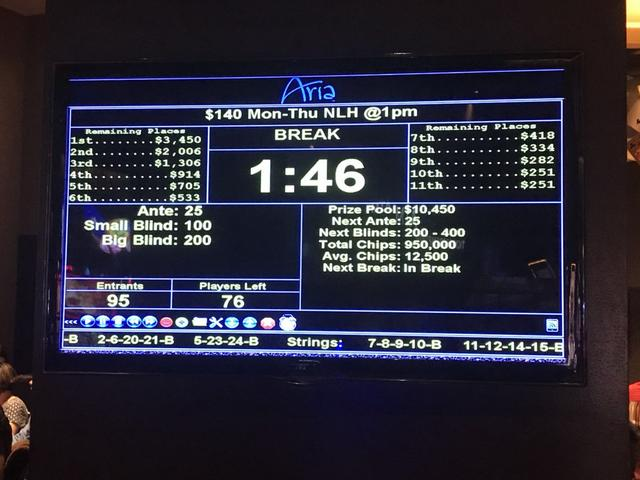PlayersLeft: (169, 276, 303, 312)
Remaining: (407, 119, 563, 204), (65, 123, 210, 207)
TournamentClock: (66, 105, 568, 317)
